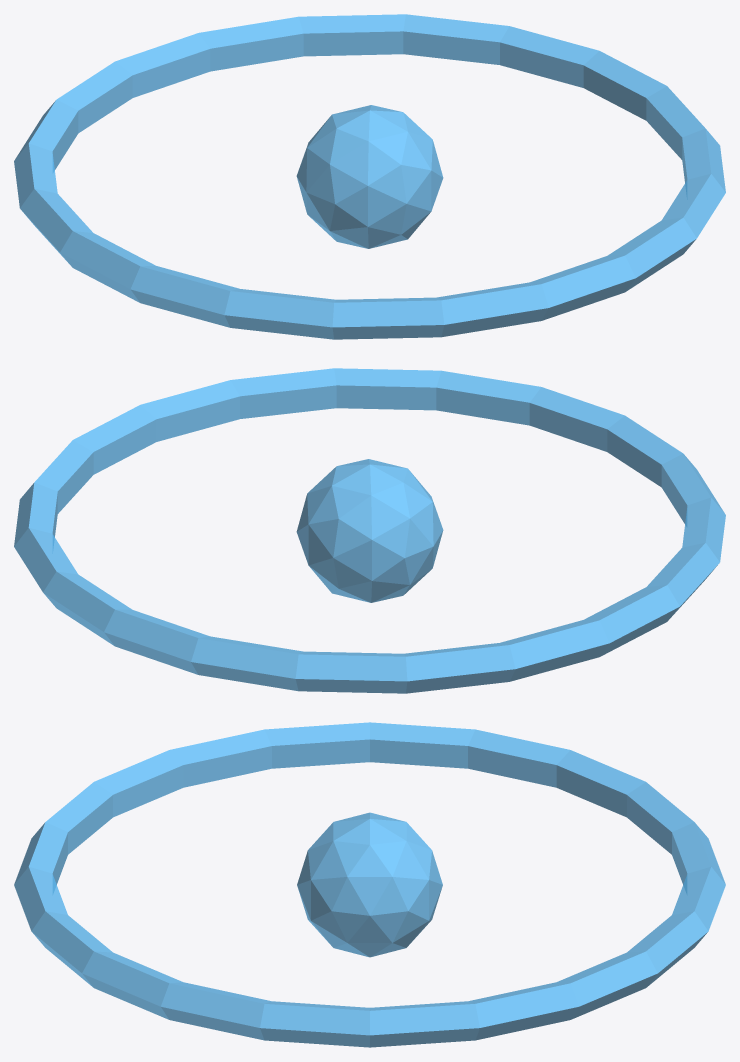
Rendered from counter_window_marker.glb.
3 views of the same model, one above another, from view 1: azimuth 30°, elevation 25°; view 2: azimuth 150°, elevation 25°; view 3: azimuth 270°, elevation 25° (orthographic).
Visible parts, largest first — view 1: outline_ring, marker_core; view 2: outline_ring, marker_core; view 3: outline_ring, marker_core.
Boxes of the visible parts, left/top/right/bottom form: outline_ring: left=14, top=14, right=725, bottom=339; marker_core: left=296, top=105, right=443, bottom=248; outline_ring: left=14, top=368, right=725, bottom=693; marker_core: left=296, top=459, right=443, bottom=602; outline_ring: left=14, top=722, right=725, bottom=1047; marker_core: left=297, top=812, right=442, bottom=957.
Size of the model in its own units: 1.17 by 0.24 by 1.17.
